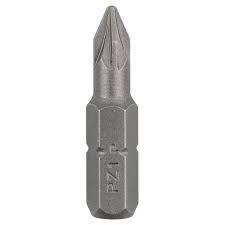screwdriver: (84, 2, 139, 218)
